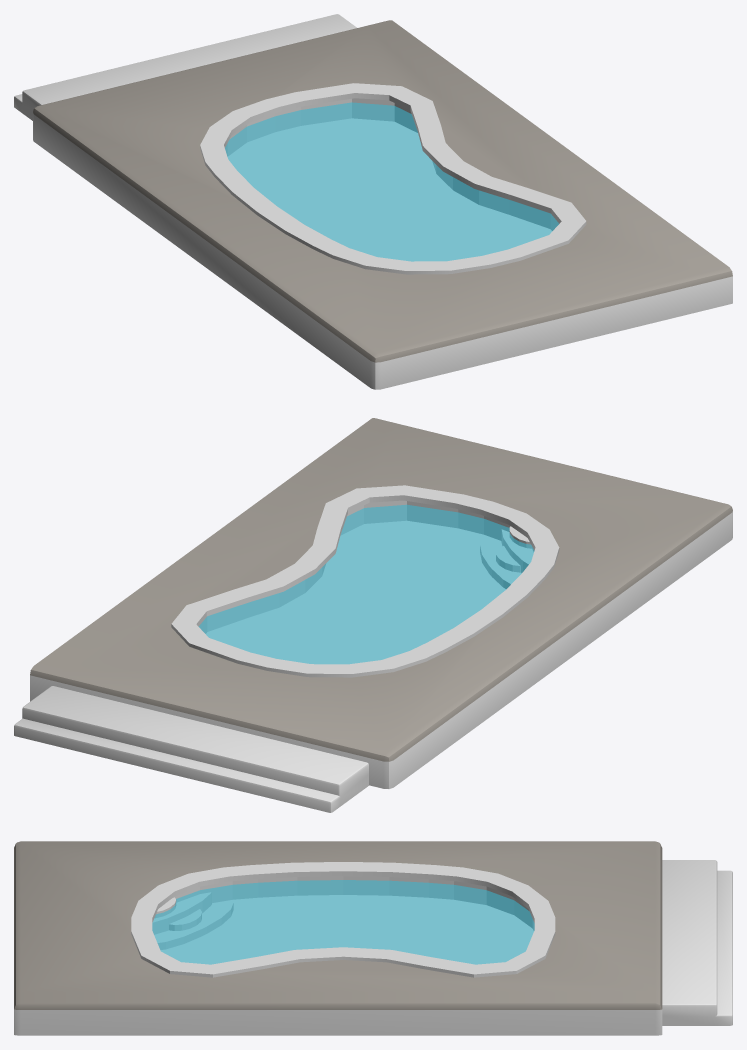
Rendered from pool.fbx.
3 views of the same model, one above another, from view 1: azimuth 30°, elevation 25°; view 2: azimuth 150°, elevation 25°; view 3: azimuth 270°, elevation 25° (orthographic). The views are drawn at different scales.
Parts seen in each view (by area): view 1: Cube.001, Plane, Cube.003, Cube; view 2: Cube.001, Plane, Cube, Cube.003, Cube.002; view 3: Cube.001, Plane, Cube.003, Cube, Cube.002, Cube.004, Cube.005.
Part boxes in pixels (x1=…): Cube.001: x1=33, y1=20, x2=732, y2=389; Plane: x1=225, y1=102, x2=558, y2=261; Cube.003: x1=200, y1=83, x2=586, y2=274; Cube: x1=14, y1=14, x2=356, y2=120; Cube.001: x1=30, y1=418, x2=732, y2=788; Plane: x1=199, y1=504, x2=534, y2=664; Cube: x1=14, y1=686, x2=368, y2=812; Cube.003: x1=171, y1=485, x2=559, y2=677; Cube.002: x1=480, y1=536, x2=521, y2=588; Cube.001: x1=14, y1=841, x2=662, y2=1035; Plane: x1=152, y1=880, x2=534, y2=964; Cube.003: x1=131, y1=862, x2=555, y2=977; Cube: x1=662, y1=860, x2=732, y2=1025; Cube.002: x1=154, y1=900, x2=233, y2=949; Cube.004: x1=152, y1=892, x2=211, y2=934; Cube.005: x1=169, y1=909, x2=201, y2=930.
Size of the model in its own units: 1404 by 140 by 2584.
